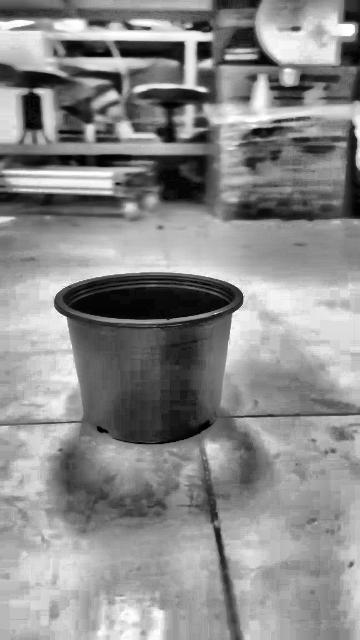pot: (54, 273, 243, 444)
